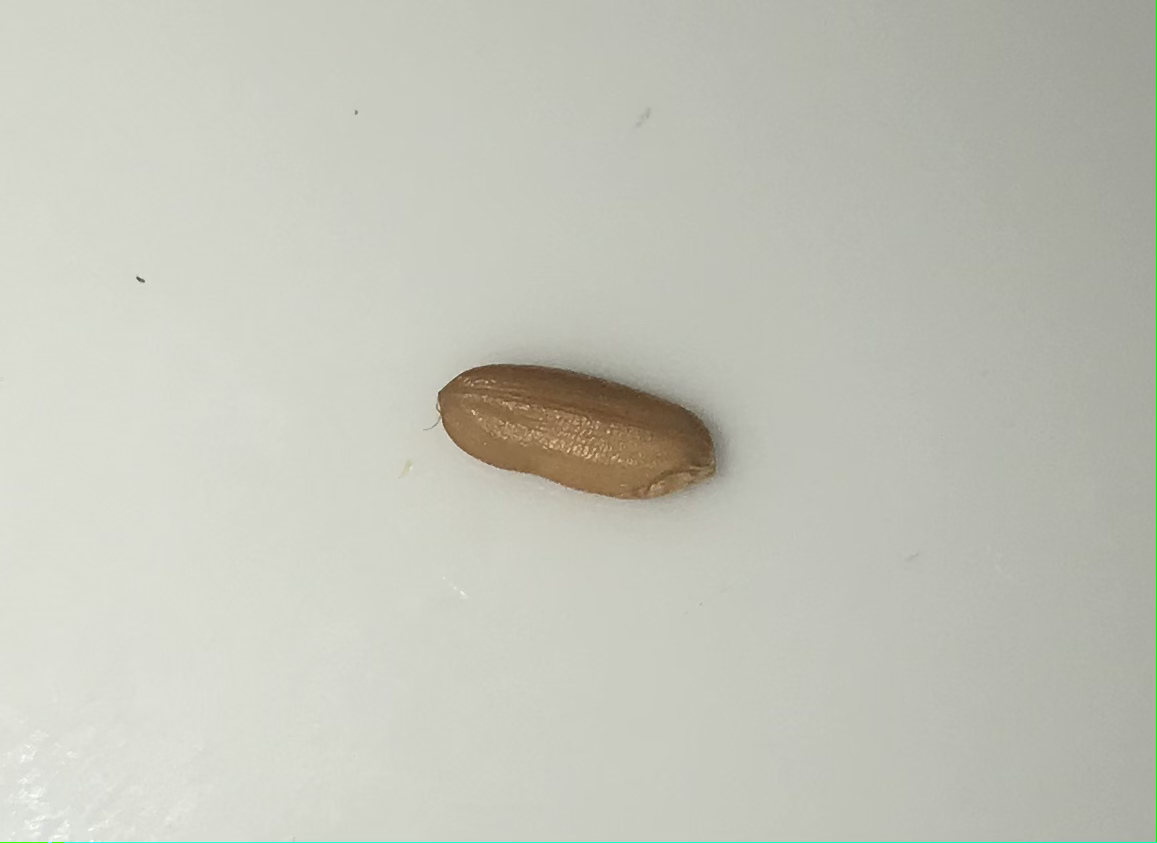Gao Lut Dien Bien: (428, 363, 720, 504)
